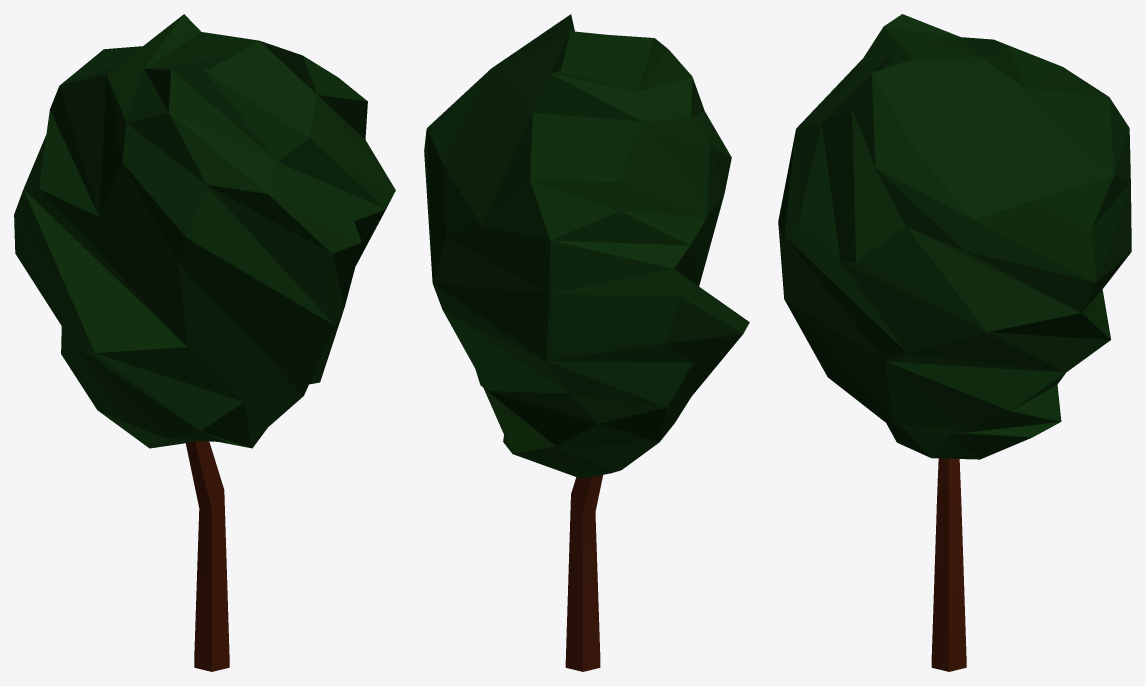
File: tree green b.FBX
3 renders of one model, left to right at view 1: azimuth 30°, elevation 25°; view 2: azimuth 150°, elevation 25°; view 3: azimuth 270°, elevation 25°, orthographic. The views are drawn at different scales.
Parts seen in each view (by area): view 1: tree green b; view 2: tree green b; view 3: tree green b.
Part boxes in pixels (x1,y1,x2,y2): tree green b: [14, 14, 395, 671]; tree green b: [424, 14, 749, 671]; tree green b: [778, 14, 1131, 671].
Size of the model in its own units: 1.98 by 2.02 by 3.9.
